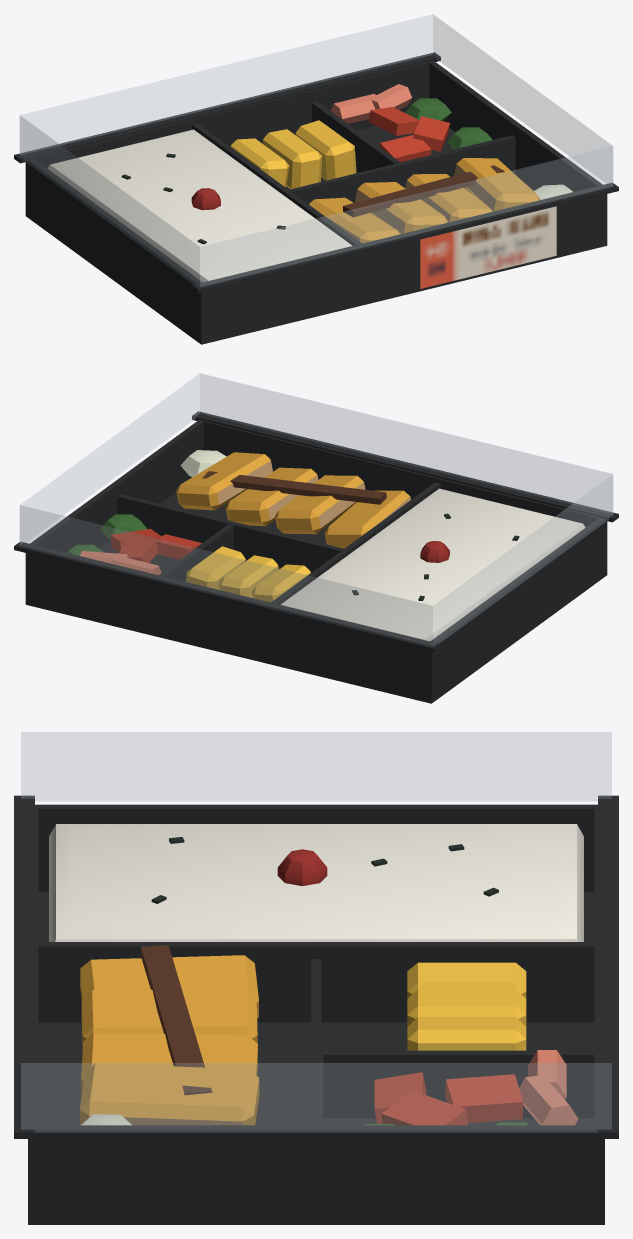
File: SC_Prod_LunchBox_Katsu.gltf
3 renders of one model, top to bottom at view 1: azimuth 30°, elevation 25°; view 2: azimuth 150°, elevation 25°; view 3: azimuth 270°, elevation 25°, orthographic. The views are drawn at different scales.
Visible parts, largest first — view 1: SC_Prod_LunchBox_Katsu; view 2: SC_Prod_LunchBox_Katsu; view 3: SC_Prod_LunchBox_Katsu.
Part boxes in pixels (left/top/right/bottom): SC_Prod_LunchBox_Katsu: left=14, top=14, right=618, bottom=344; SC_Prod_LunchBox_Katsu: left=14, top=373, right=618, bottom=703; SC_Prod_LunchBox_Katsu: left=14, top=732, right=618, bottom=1224.
Size of the model in its own units: 0.228 by 0.052 by 0.173.
Materials: 3 (3 with a texture image).
